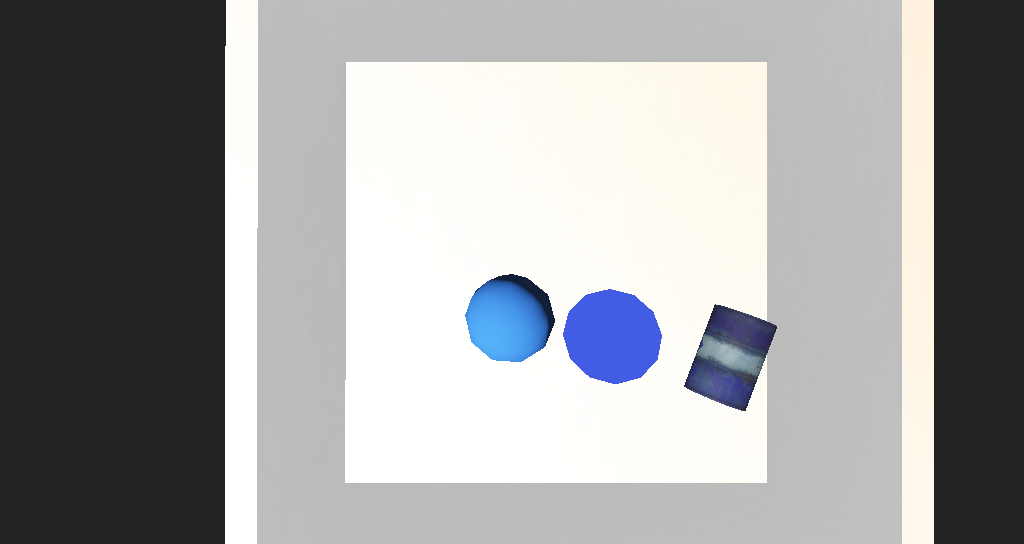cone: (596, 282, 670, 339)
cylinder: (505, 279, 573, 341)
sphere: (438, 267, 505, 315)
